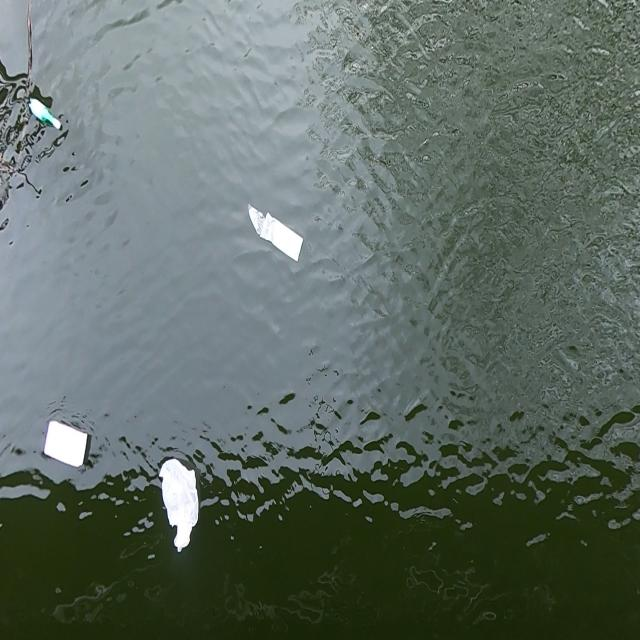Autre plastique: (40, 413, 93, 478)
Bouteille plastique: (24, 94, 65, 135)
Sac plastique: (155, 455, 204, 554), (242, 200, 306, 268)
